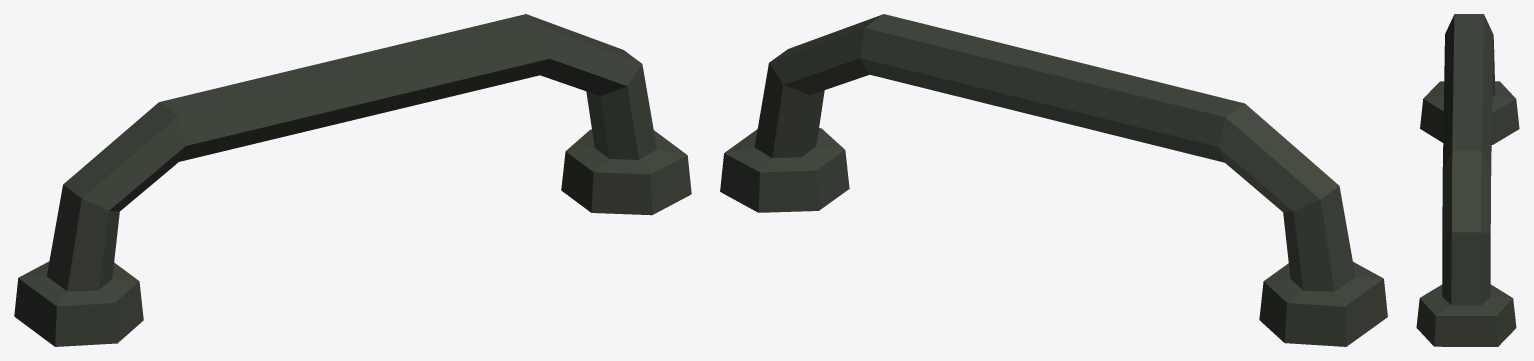
The model's file is SM_Veh_Attach_Handle_01.fbx.
3 views of the same model, side by side, from view 1: azimuth 30°, elevation 25°; view 2: azimuth 150°, elevation 25°; view 3: azimuth 270°, elevation 25° (orthographic). The views are drawn at different scales.
Parts seen in each view (by area): view 1: SM_Veh_Attach_Handle_01; view 2: SM_Veh_Attach_Handle_01; view 3: SM_Veh_Attach_Handle_01.
Boxes of the visible parts, <box> form: SM_Veh_Attach_Handle_01: <box>14,14,691,346</box>; SM_Veh_Attach_Handle_01: <box>720,14,1387,346</box>; SM_Veh_Attach_Handle_01: <box>1416,14,1519,346</box>.
Bounding box in the file's own units: 28.83 × 8.27 × 5.3.
